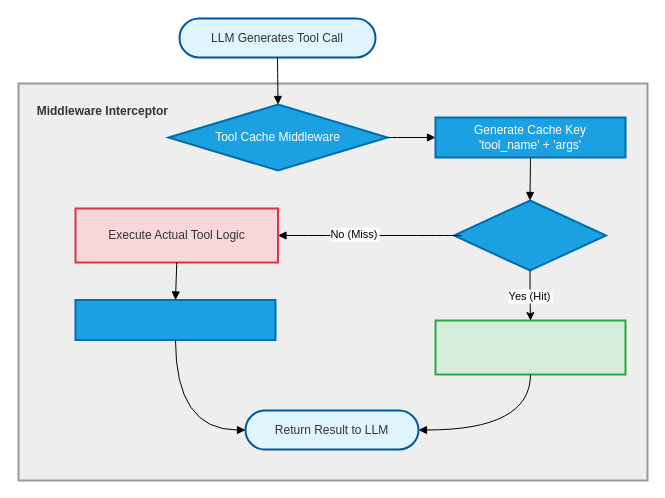
Image size: 665x498. Some labels were removed from this diagram. The shapes that lost their labels are listed below. From the top down, each one's centre as x and y in pixels, then its label:
At pixel 529 235: "Key in Cache?".
At pixel 175 319: "Save Result to Cache Storage".
At pixel 530 347: "Fetch Cached ToolMessage".
